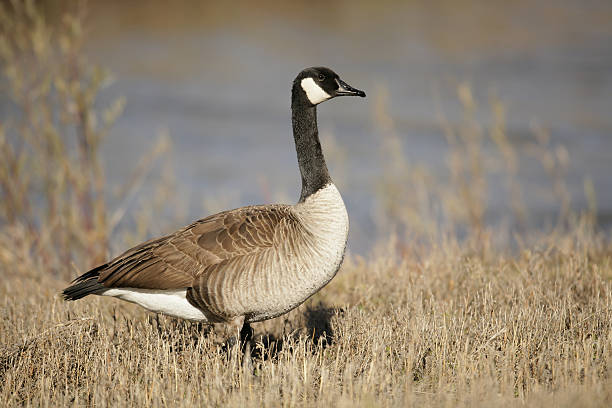goose: (58, 64, 367, 361)
